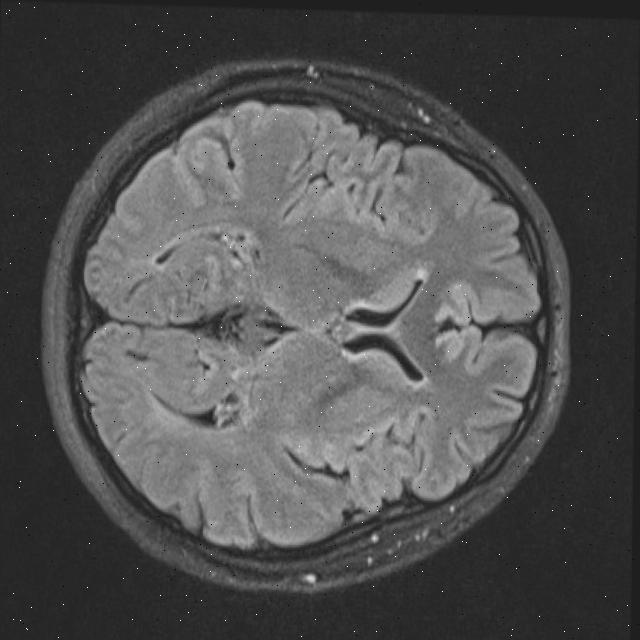NoTumor: (38, 48, 574, 603)
